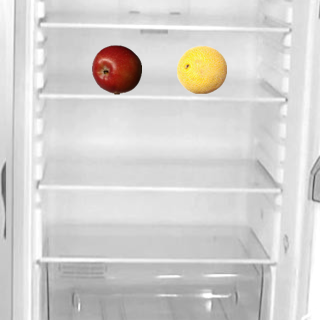Apple Braeburn: (91, 44, 141, 94)
Cantaloupe 1: (176, 44, 226, 94)
